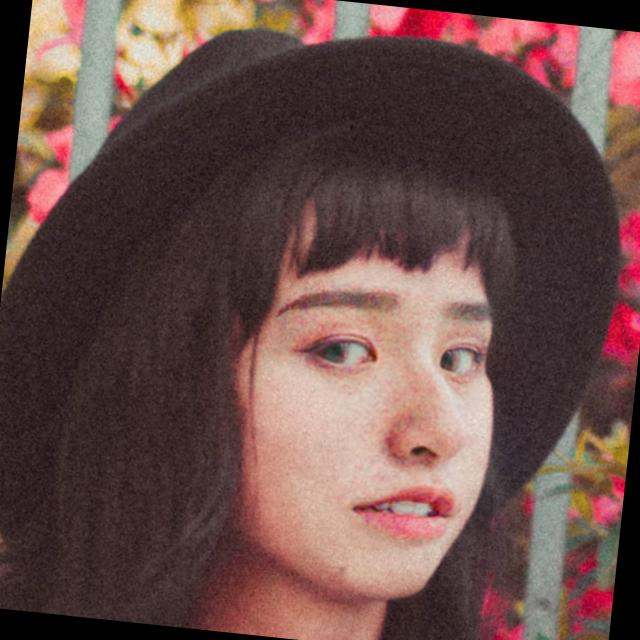face: (202, 168, 548, 626)
